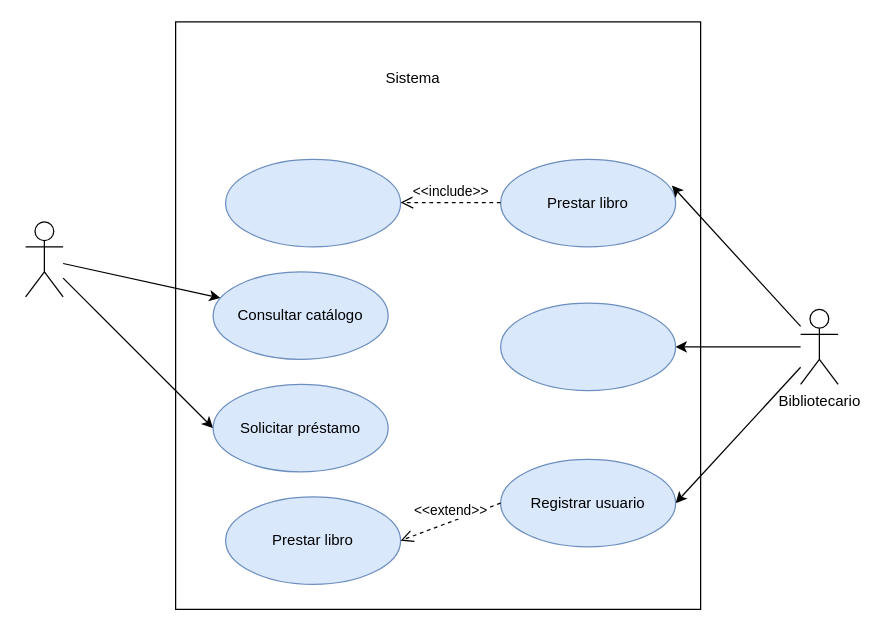
Image size: 881x631. Some labels were removed from this diagram. Each missing label, with the box of its shape:
Cliente: (24, 221, 63, 297)
Devolver libro: (499, 302, 676, 391)
Verificar disponibilidad: (224, 158, 401, 247)
